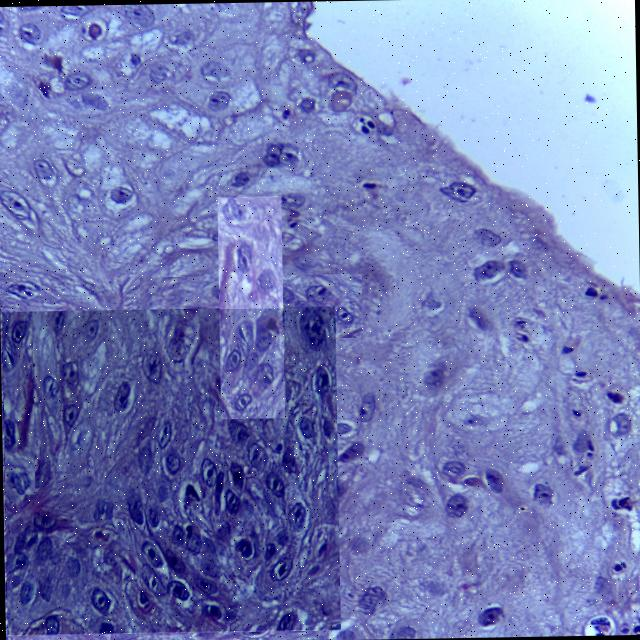Nuclear Hyperchromatism: (5, 306, 337, 632), (220, 196, 283, 417)
